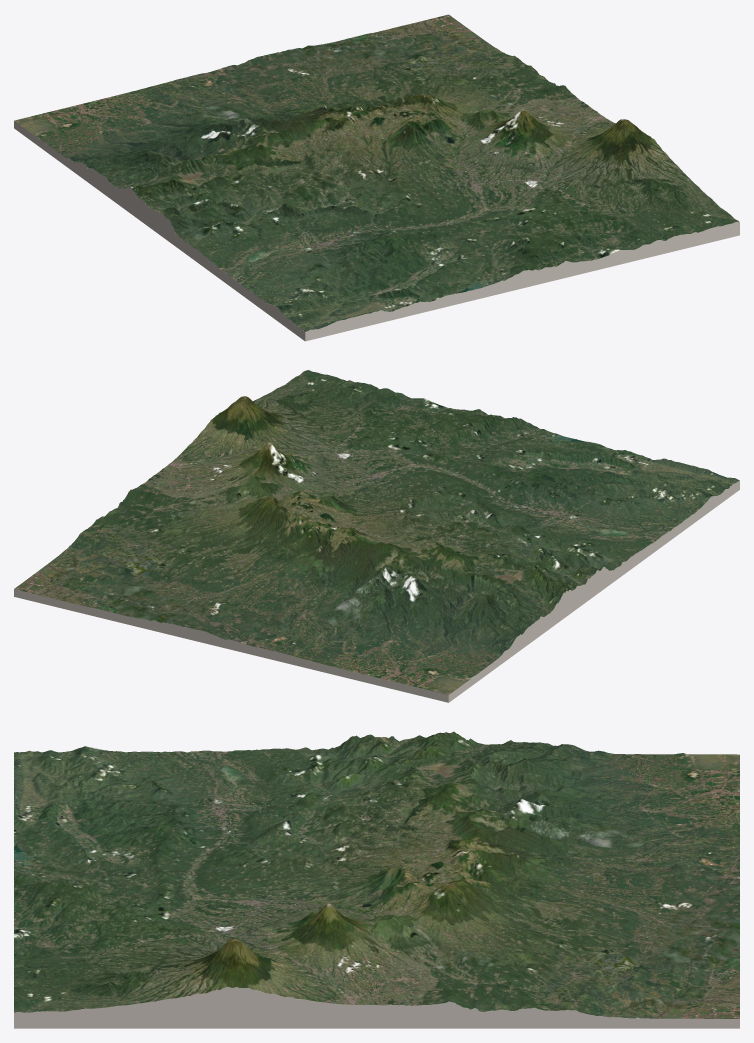
File: basemap.glb
3 views of the same model, one above another, from view 1: azimuth 30°, elevation 25°; view 2: azimuth 150°, elevation 25°; view 3: azimuth 270°, elevation 25° (orthographic). The views are drawn at different scales.
Visible parts, largest first — view 1: object 3, side; view 2: object 3, side; view 3: object 3, side.
Boxes of the visible parts, left/top/right/bottom form: object 3: left=14, top=14, right=739, bottom=331; side: left=14, top=121, right=739, bottom=341; object 3: left=14, top=370, right=739, bottom=694; side: left=14, top=480, right=739, bottom=702; object 3: left=14, top=731, right=739, bottom=1018; side: left=14, top=987, right=739, bottom=1028.
Size of the model in its own units: 59675 by 7570 by 69224.
Materials: 2 (1 with a texture image).
